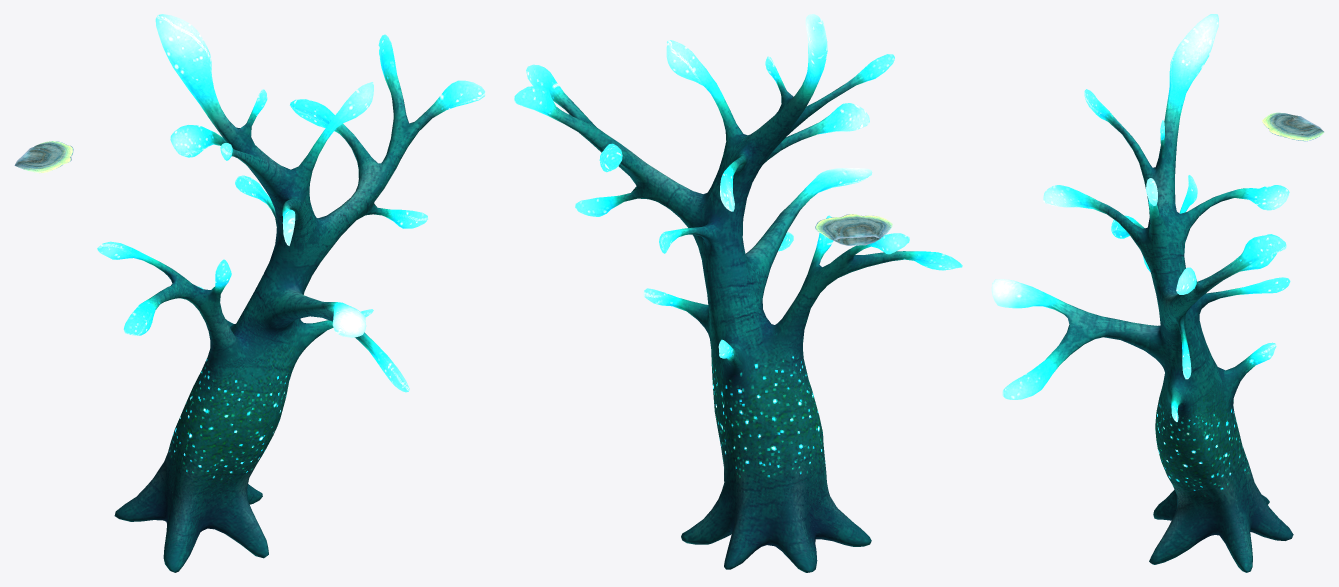
3 renders of one model, left to right at view 1: azimuth 30°, elevation 25°; view 2: azimuth 150°, elevation 25°; view 3: azimuth 270°, elevation 25°, orthographic. The views are drawn at different scales.
Visible parts, largest first — view 1: SM_Alien_Shrub_B_LOD0_Shrub_B_0, SM_APV1_A_LOD0_Tree_B_0; view 2: SM_Alien_Shrub_B_LOD0_Shrub_B_0, SM_APV1_A_LOD0_Tree_B_0; view 3: SM_Alien_Shrub_B_LOD0_Shrub_B_0, SM_APV1_A_LOD0_Tree_B_0.
Part boxes in pixels (<box>): SM_Alien_Shrub_B_LOD0_Shrub_B_0: <box>97,14,485,572</box>; SM_APV1_A_LOD0_Tree_B_0: <box>14,141,73,173</box>; SM_Alien_Shrub_B_LOD0_Shrub_B_0: <box>514,14,962,572</box>; SM_APV1_A_LOD0_Tree_B_0: <box>815,214,892,245</box>; SM_Alien_Shrub_B_LOD0_Shrub_B_0: <box>991,14,1293,572</box>; SM_APV1_A_LOD0_Tree_B_0: <box>1262,112,1324,141</box>.
Bounding box in the file's own units: 309 × 387 × 226.
